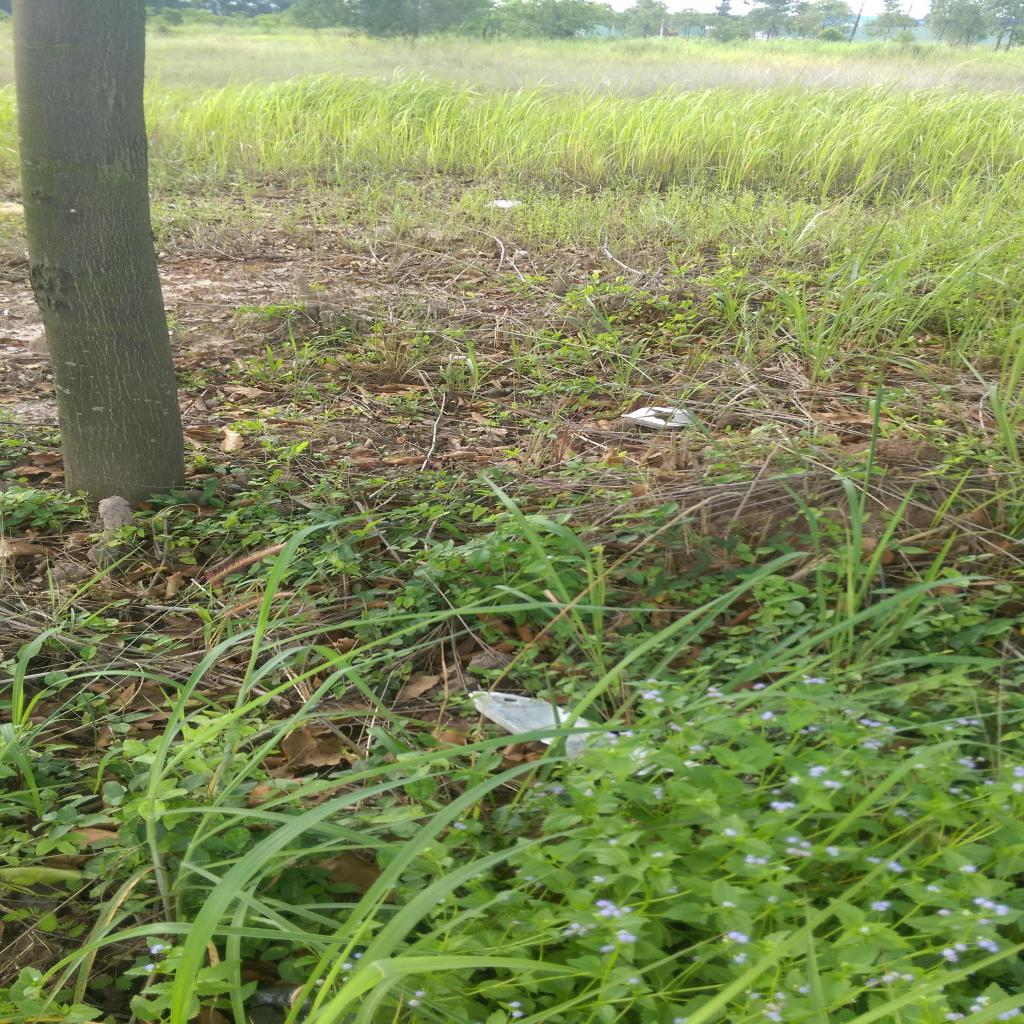Foam food container: (470, 691, 698, 774), (624, 406, 707, 428)
Unlabeled litter: (484, 199, 520, 207)
